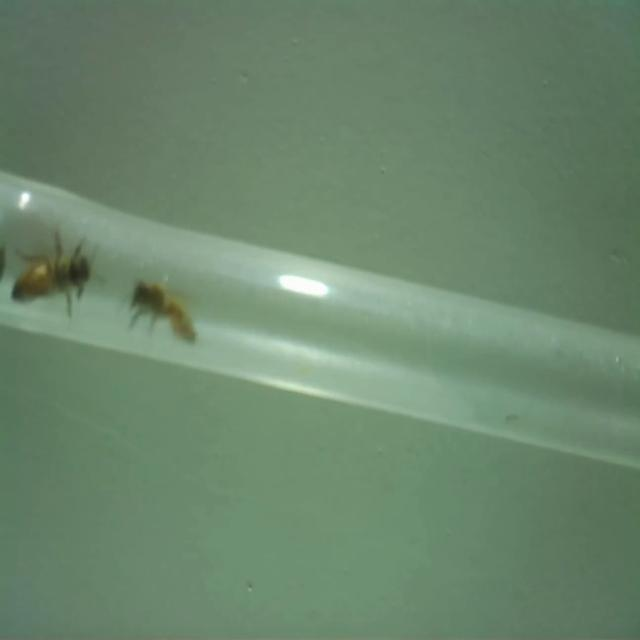Honeybee-Detection: (11, 228, 105, 318), (128, 278, 199, 346)
